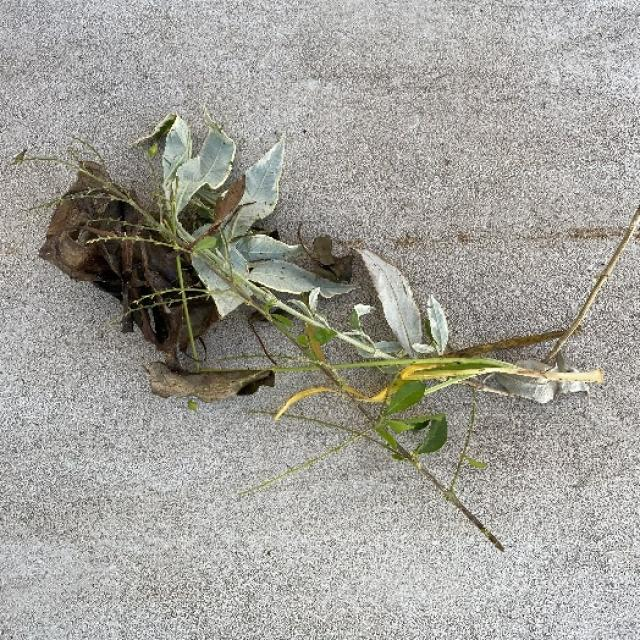organik: (43, 116, 613, 532)
